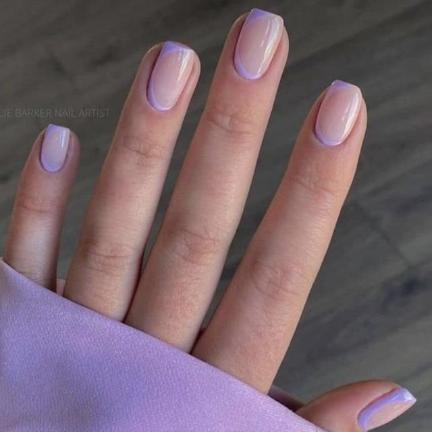Nail: (233, 8, 284, 79), (147, 42, 195, 111), (315, 80, 362, 145), (356, 387, 416, 430), (40, 124, 70, 172)
